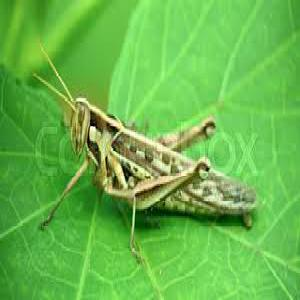locust: (35, 65, 252, 242)
